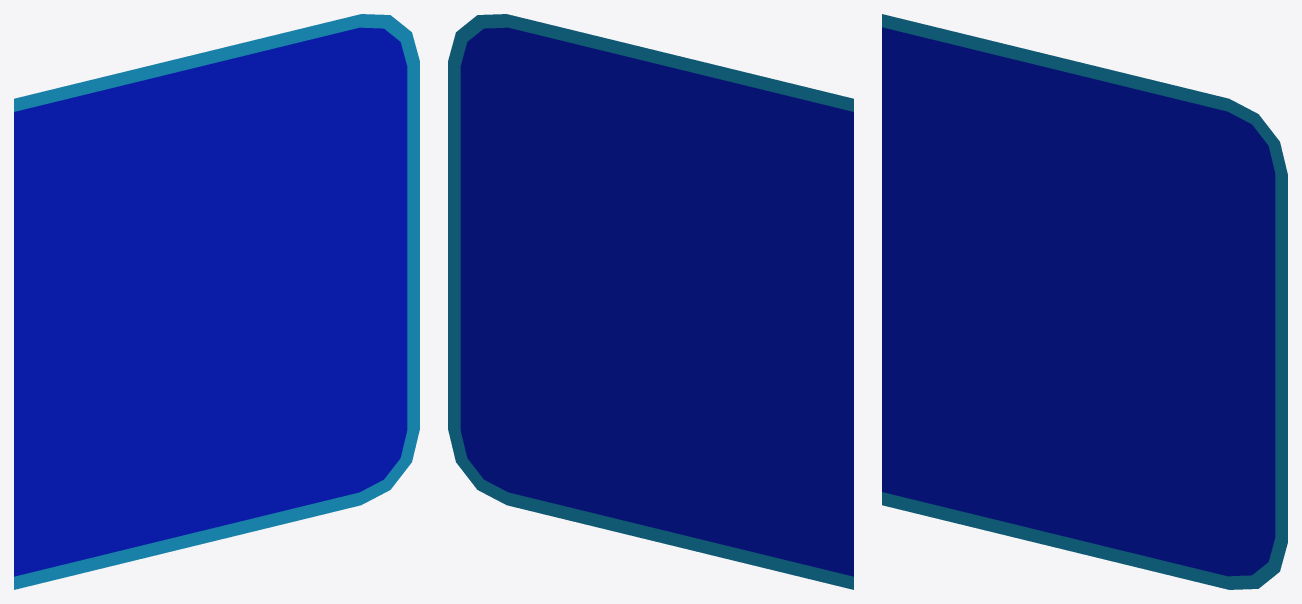
Rendered from EdgeWall2_R.fbx.
3 views of the same model, side by side, from view 1: azimuth 30°, elevation 25°; view 2: azimuth 150°, elevation 25°; view 3: azimuth 330°, elevation 25° (orthographic).
Visible parts, largest first — view 1: EdgeWall_Right; view 2: EdgeWall_Right; view 3: EdgeWall_Right.
Boxes of the visible parts, x1,y1,x2,y2 form: EdgeWall_Right: (14, 14, 419, 589); EdgeWall_Right: (448, 14, 853, 589); EdgeWall_Right: (882, 14, 1287, 589).
Bounding box in the file's own units: 482 × 557 × 0.
